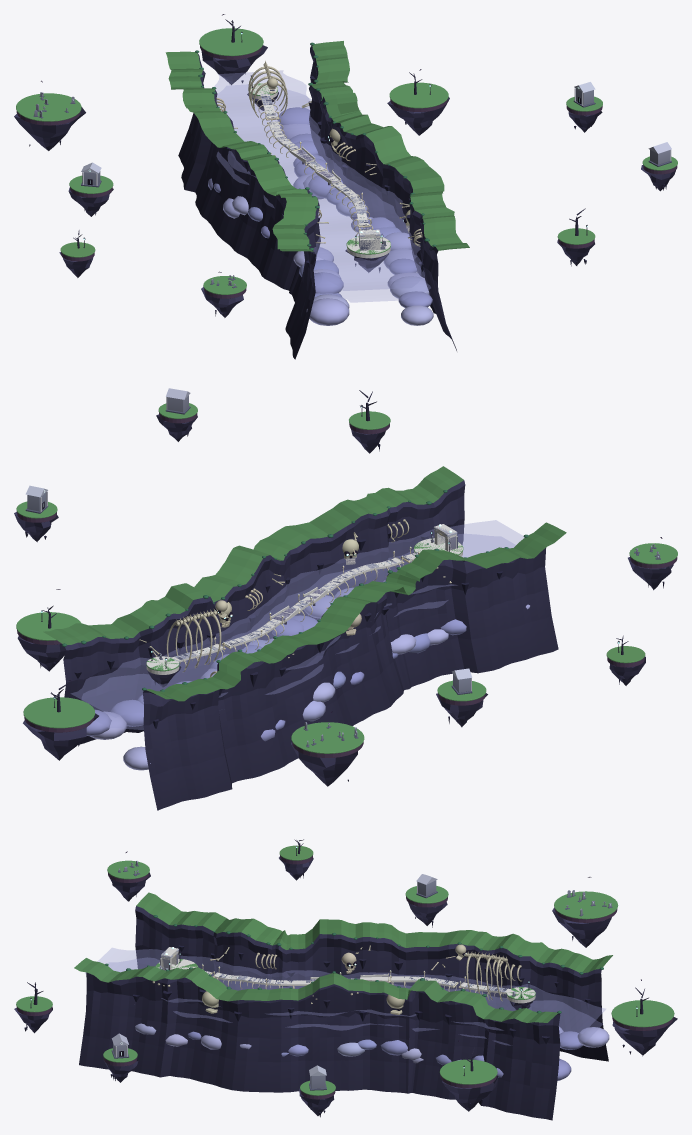
The picture shows the model from 3 angles, top to bottom: view 1: azimuth 30°, elevation 25°; view 2: azimuth 150°, elevation 25°; view 3: azimuth 270°, elevation 25°; orthographic projection. The views are drawn at different scales.
Parts seen in each view (by area): view 1: V_rock, V_moss, V_mist_veil, V_mist, V_mist_dark, V_bone, V_dirt, C_0, V_stone, V_stone_dark, V_rock_dark; view 2: V_rock, V_moss, V_mist_veil, V_mist_dark, V_mist, V_bone, V_dirt, C_0, V_stone, V_rock_dark, V_stone_dark; view 3: V_rock, V_moss, V_mist_veil, V_bone, V_mist, V_dirt, V_mist_dark, C_0, V_stone, V_rock_dark, V_stone_light, V_stone_dark (+1 smaller).
Part boxes in pixels (left/top/right/bottom): V_rock: left=14, top=45, right=675, bottom=359; V_moss: left=16, top=28, right=677, bottom=294; V_mist_veil: left=214, top=70, right=430, bottom=302; V_mist: left=192, top=118, right=433, bottom=325; V_mist_dark: left=208, top=107, right=432, bottom=307; V_bone: left=216, top=60, right=422, bottom=246; V_dirt: left=16, top=46, right=677, bottom=298; C_0: left=250, top=83, right=390, bottom=258; V_stone: left=34, top=88, right=670, bottom=286; V_stone_dark: left=33, top=89, right=671, bottom=288; V_rock_dark: left=29, top=73, right=666, bottom=316; V_rock: left=14, top=414, right=673, bottom=810; V_moss: left=16, top=403, right=677, bottom=753; V_mist_veil: left=71, top=520, right=524, bottom=729; V_mist_dark: left=86, top=615, right=466, bottom=741; V_mist: left=90, top=580, right=529, bottom=770; V_bone: left=139, top=519, right=451, bottom=677; V_dirt: left=17, top=413, right=677, bottom=757; C_0: left=146, top=538, right=462, bottom=674; V_stone: left=27, top=395, right=659, bottom=746; V_rock_dark: left=25, top=433, right=664, bottom=781; V_stone_dark: left=25, top=406, right=660, bottom=747; V_rock: left=14, top=856, right=677, bottom=1120; V_moss: left=16, top=845, right=674, bottom=1095; V_mist_veil: left=85, top=948, right=605, bottom=1047; V_bone: left=152, top=944, right=521, bottom=1015; V_mist: left=135, top=1023, right=609, bottom=1063; V_dirt: left=16, top=855, right=673, bottom=1099; V_mist_dark: left=188, top=1031, right=582, bottom=1080; C_0: left=157, top=959, right=535, bottom=1003; V_stone: left=113, top=861, right=611, bottom=1088; V_rock_dark: left=24, top=874, right=638, bottom=1117; V_stone_light: left=111, top=874, right=437, bottom=1076; V_stone_dark: left=111, top=864, right=612, bottom=1090.
Bounding box in the file's own units: 173 × 41.56 × 186.
